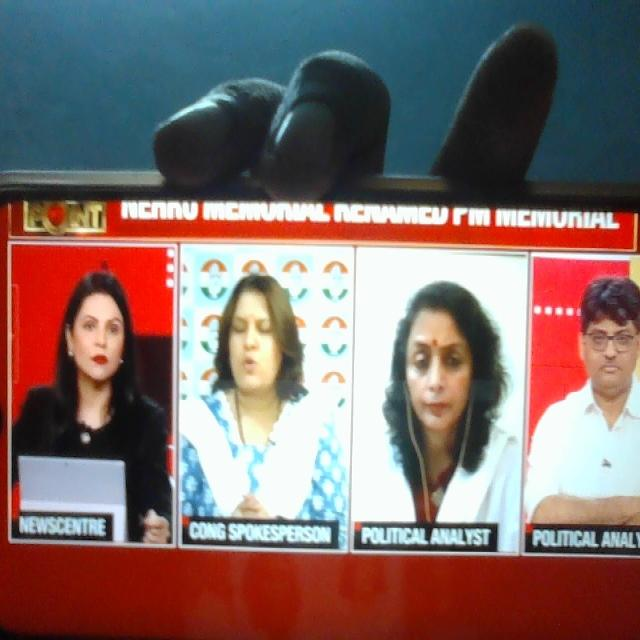fake: (386, 268, 491, 467)
